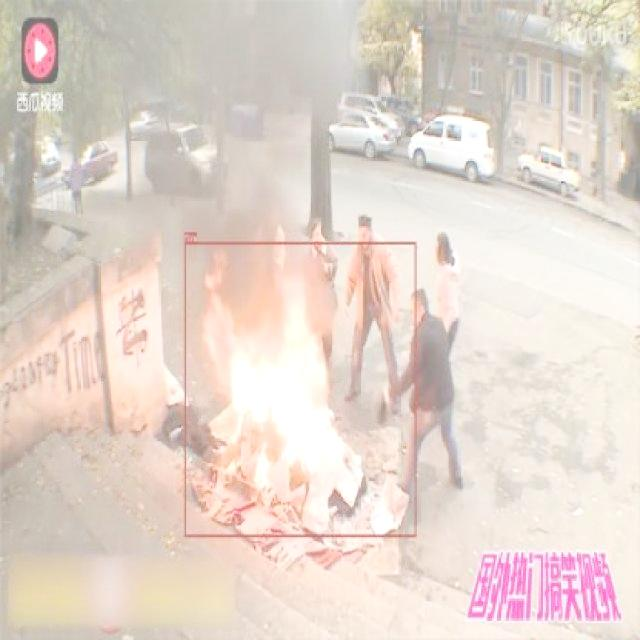fire: (184, 241, 416, 537)
